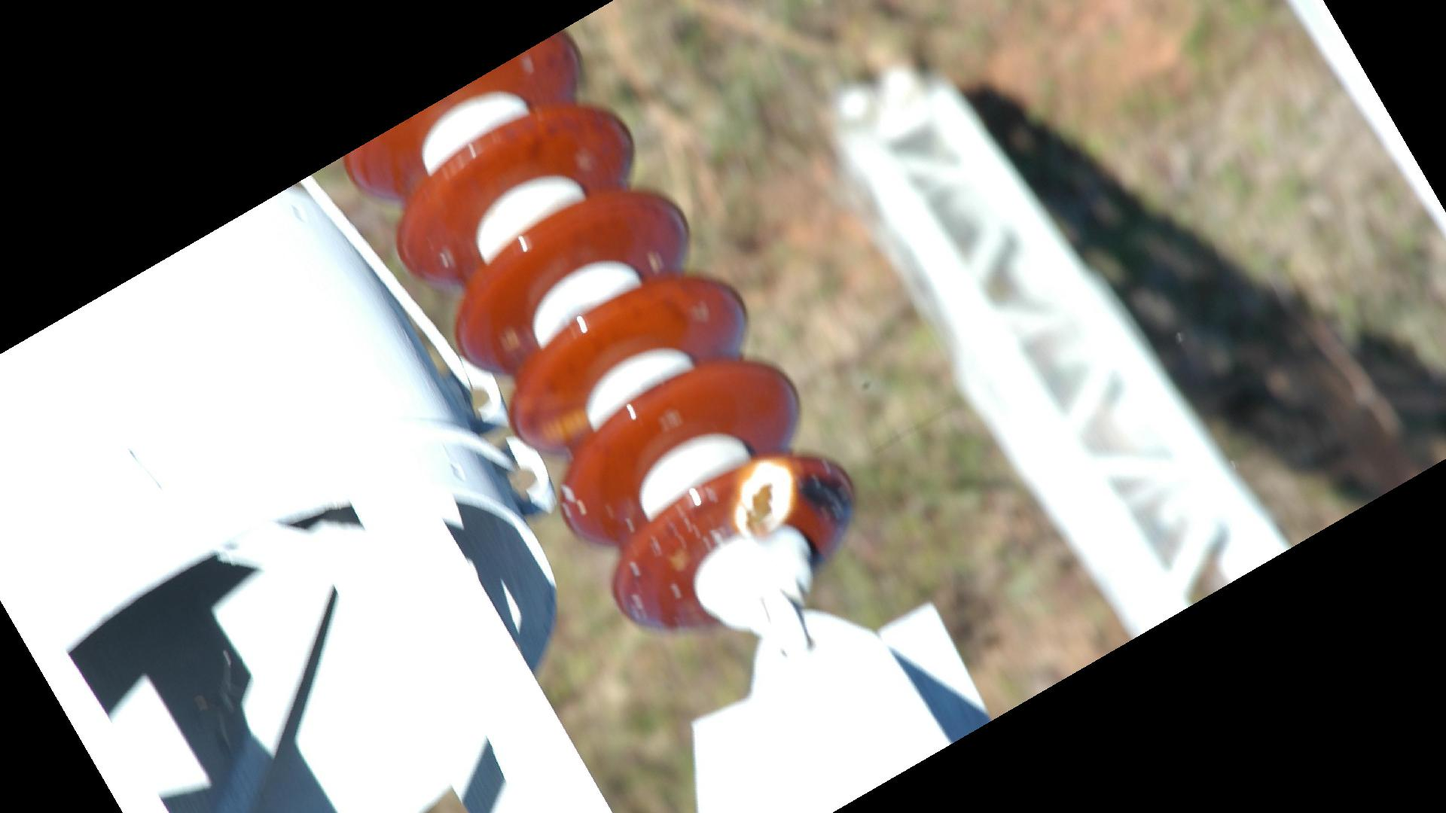insulator: (334, 28, 866, 638)
insulator_flashover: (734, 456, 798, 539), (534, 408, 588, 450)
